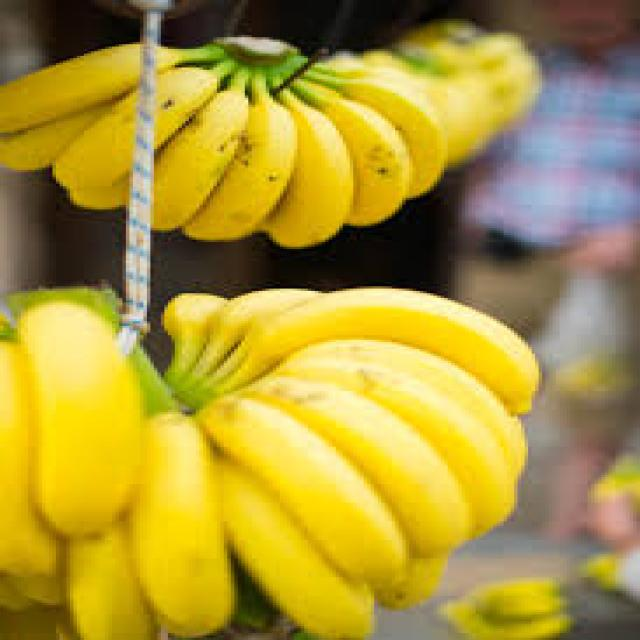banana: (10, 280, 546, 632), (0, 33, 456, 244)
